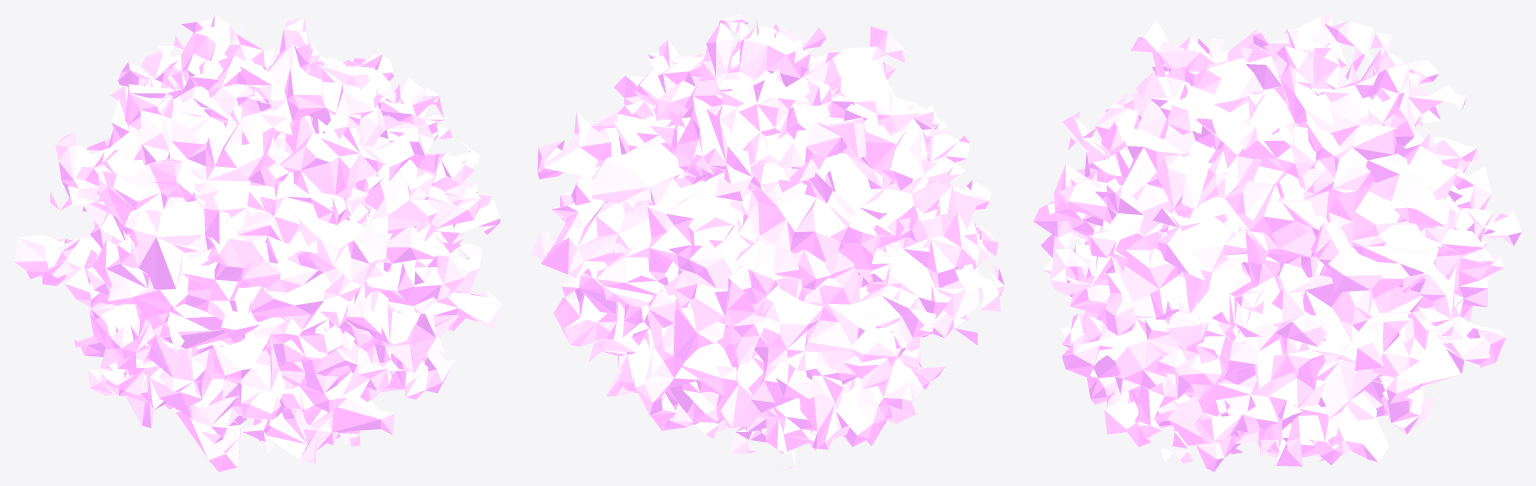
Rendered from snr-sn1006.glb.
3 views of the same model, side by side, from view 1: azimuth 30°, elevation 25°; view 2: azimuth 150°, elevation 25°; view 3: azimuth 270°, elevation 25° (orthographic). The views are drawn at different scales.
Parts seen in each view (by area): view 1: Ejecta full globe.stl; view 2: Ejecta full globe.stl; view 3: Ejecta full globe.stl.
Boxes of the visible parts, box(x1,y1,x2,y2) form: Ejecta full globe.stl: box(14, 14, 501, 471); Ejecta full globe.stl: box(530, 14, 1004, 471); Ejecta full globe.stl: box(1033, 14, 1521, 471).
Size of the model in its own units: 14.71 by 14.5 by 14.64.
